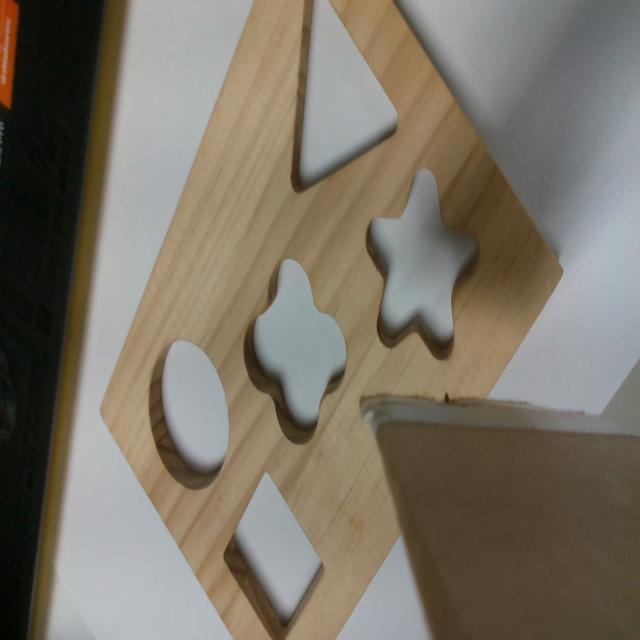circle: (150, 338, 230, 495)
flower: (244, 260, 348, 445)
square: (221, 467, 326, 639)
star: (367, 170, 479, 358)
triangle: (288, 1, 402, 200)
